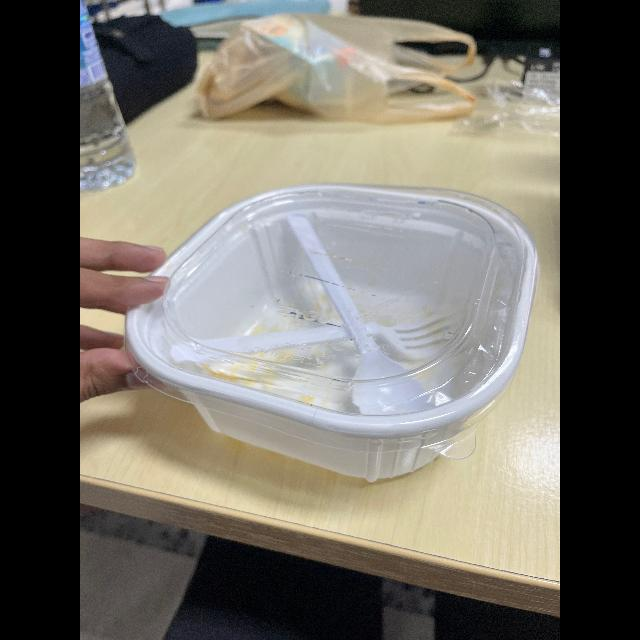plastic_box: (128, 182, 552, 488)
